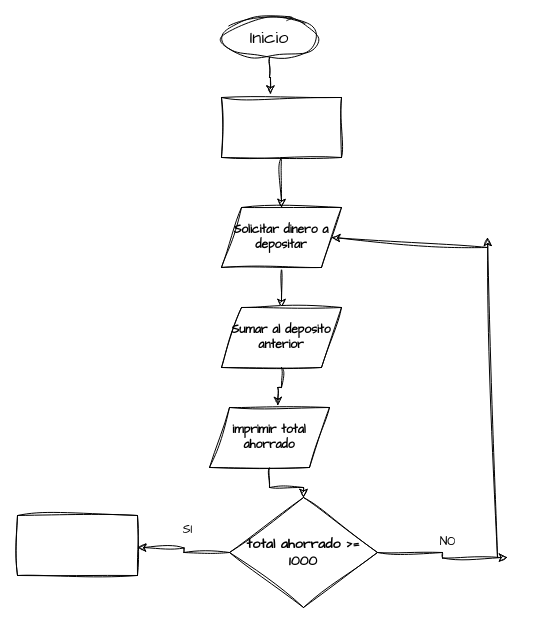
Image size: 533x625. Some labels were removed from this diagram. The box of each missing label's shape, as (x1, y1, x2, y2) in pixels:
deposito inicial es igual a Cero: (220, 96, 342, 158)
Felicidades has cumplido la meta: (16, 514, 138, 576)
